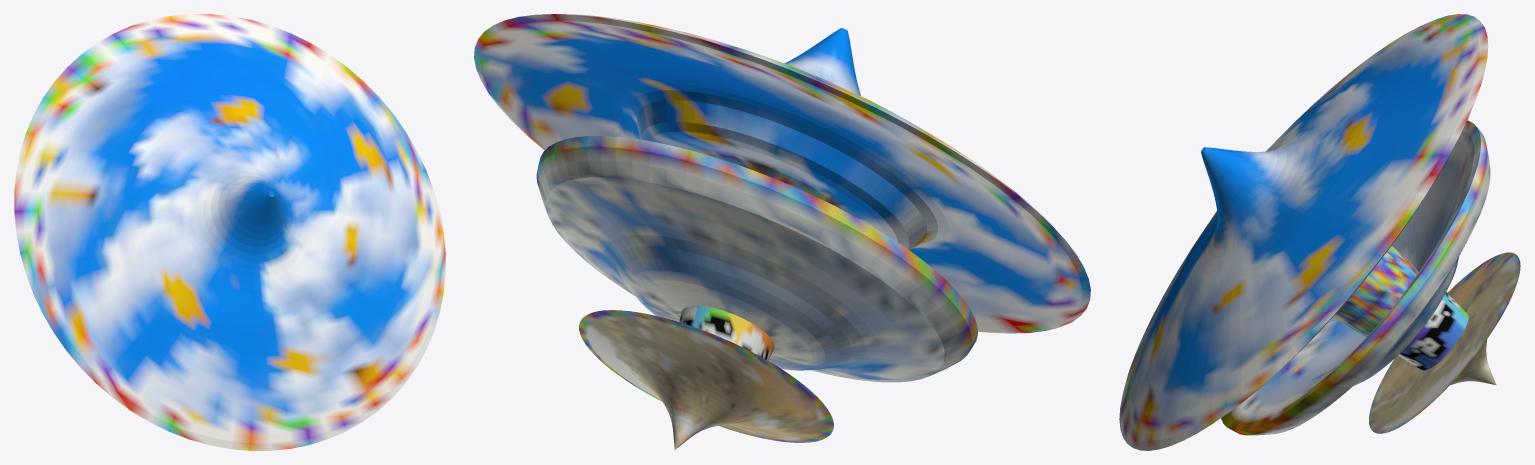
The model's file is april28outdoorpagoda4.glb.
The picture shows the model from 3 angles, left to right: view 1: azimuth 30°, elevation 25°; view 2: azimuth 150°, elevation 25°; view 3: azimuth 270°, elevation 25°; orthographic projection. The views are drawn at different scales.
Parts seen in each view (by area): view 1: Lathe 4; view 2: Lathe 4, Lathe 3, Lathe, Lathe.001; view 3: Lathe 4, Lathe 3, Lathe, Lathe.001.
Part boxes in pixels (box(x1,y1,x2,y2)): Lathe 4: box(14, 14, 445, 450); Lathe 4: box(474, 14, 1090, 333); Lathe 3: box(536, 136, 977, 382); Lathe: box(579, 310, 833, 450); Lathe.001: box(679, 305, 774, 360); Lathe 4: box(1119, 14, 1488, 450); Lathe 3: box(1221, 120, 1490, 435); Lathe: box(1369, 252, 1520, 433); Lathe.001: box(1398, 292, 1468, 370).
Bounding box in the file's own units: 3.74 × 2.82 × 2.72.
